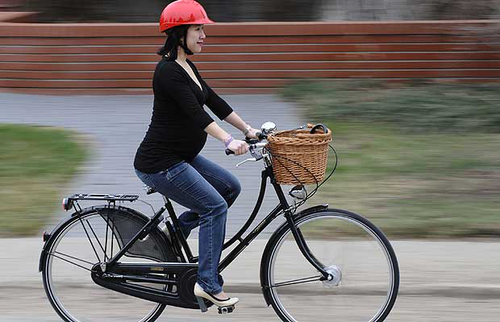bikerider: (32, 1, 411, 321)
